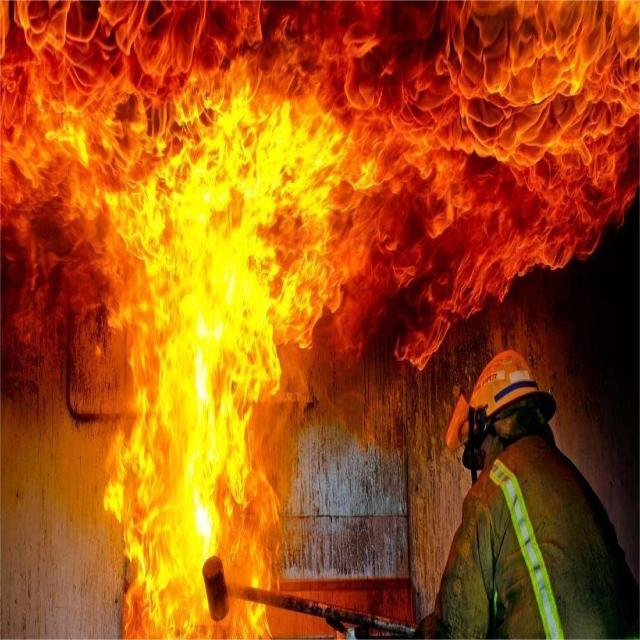Fire: (0, 0, 640, 359), (100, 358, 280, 640)
